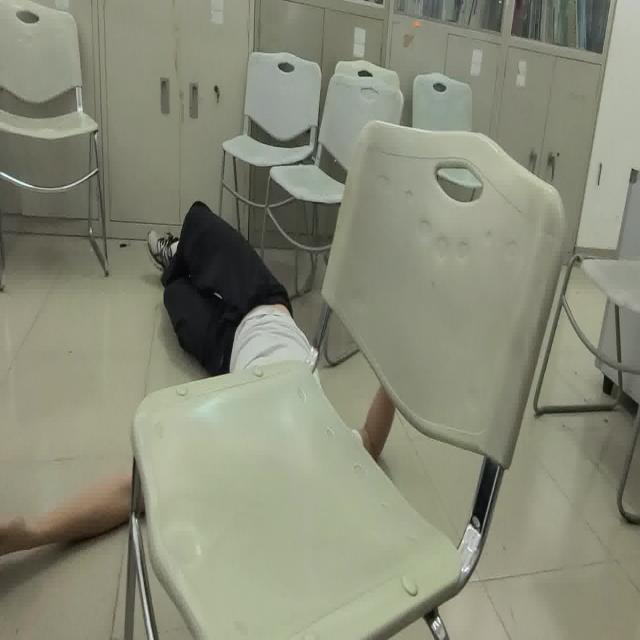Fall-Detected: (0, 203, 388, 569)
